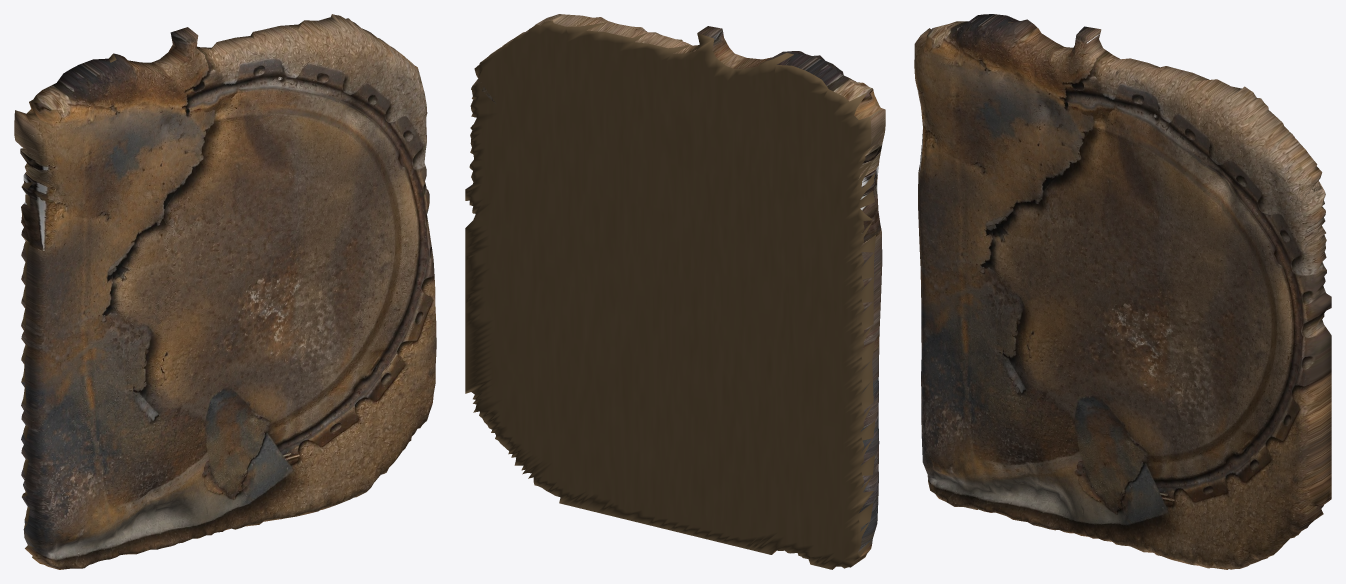
The model's file is hy3d-esc-023.glb.
3 views of the same model, side by side, from view 1: azimuth 30°, elevation 25°; view 2: azimuth 150°, elevation 25°; view 3: azimuth 330°, elevation 25° (orthographic).
Visible parts, largest first — view 1: world; view 2: world; view 3: world.
Boxes of the visible parts, x1=… form: world: x1=14, y1=14, x2=436, y2=569; world: x1=465, y1=14, x2=885, y2=569; world: x1=914, y1=14, x2=1331, y2=569.
Bounding box in the file's own units: 0.5061 × 0.6 × 0.0537.
Materials: 1 (1 with a texture image).
